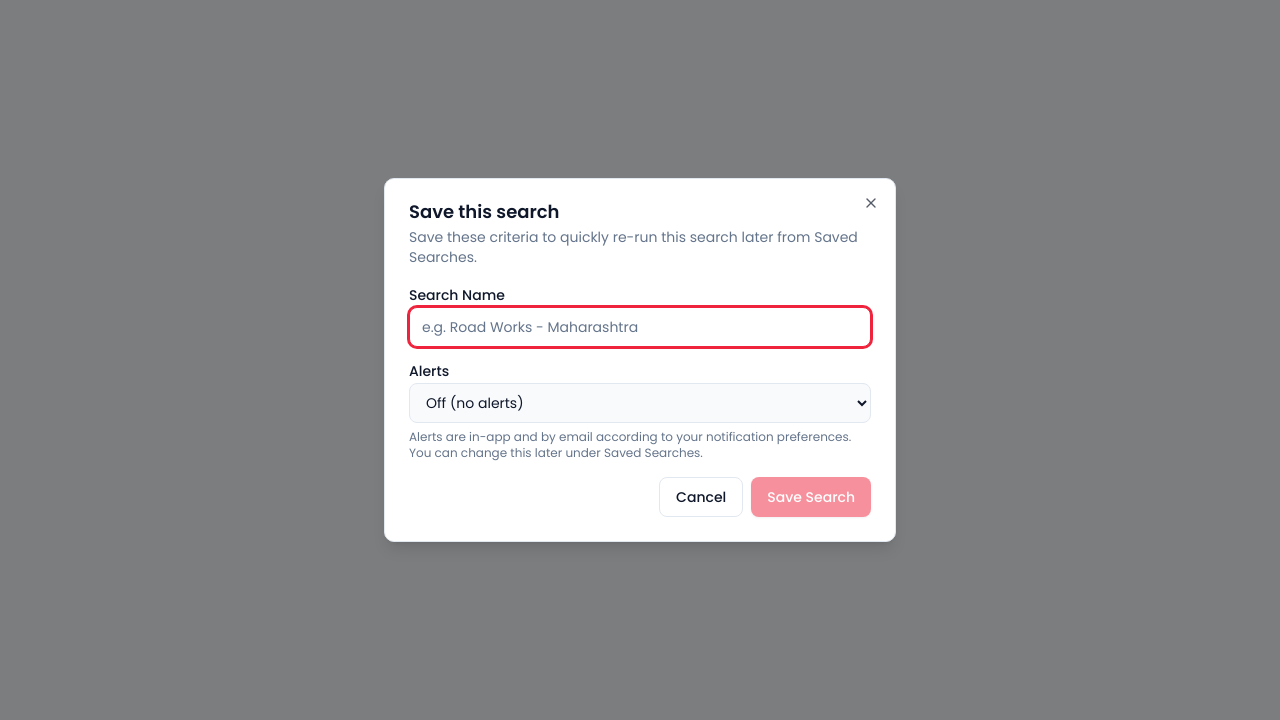
Test: SaveSearchModal › shows an error and stays open when the API fails
In the field labelled "Search Name": (640, 327) [409,307,871,347], type "X"
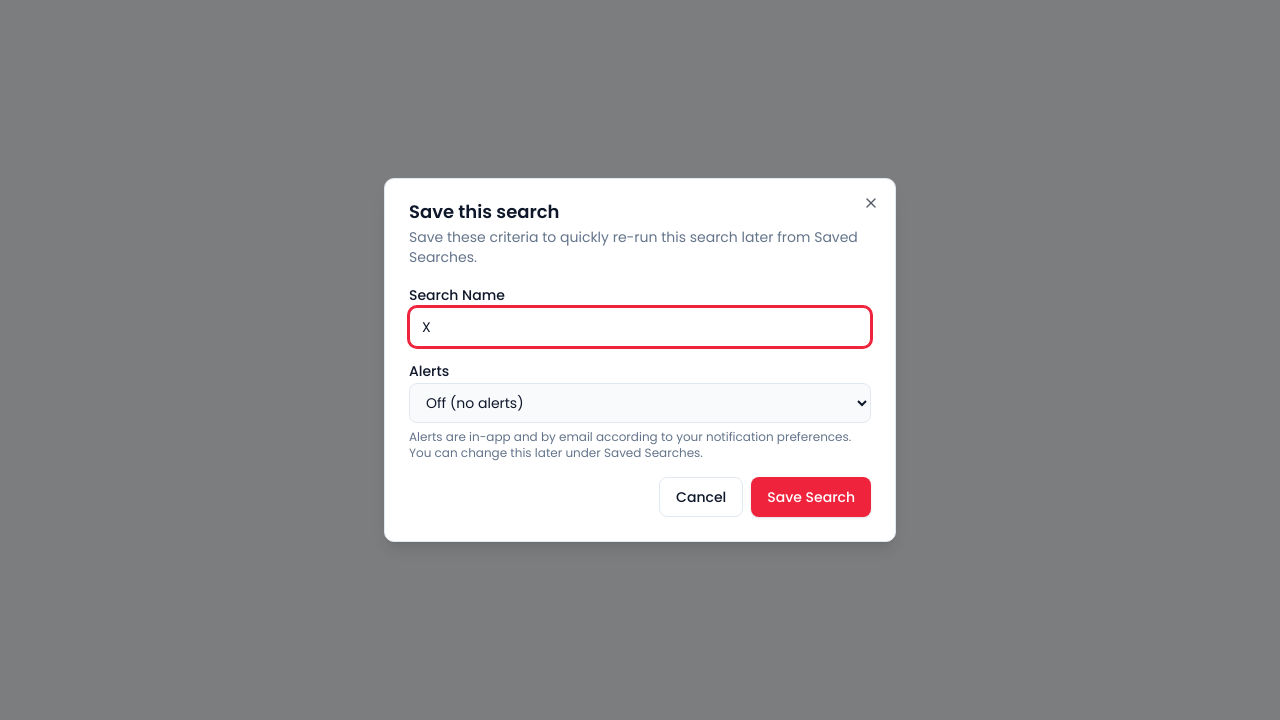
Click the button "Save Search": (811, 497) [751,477,871,517]
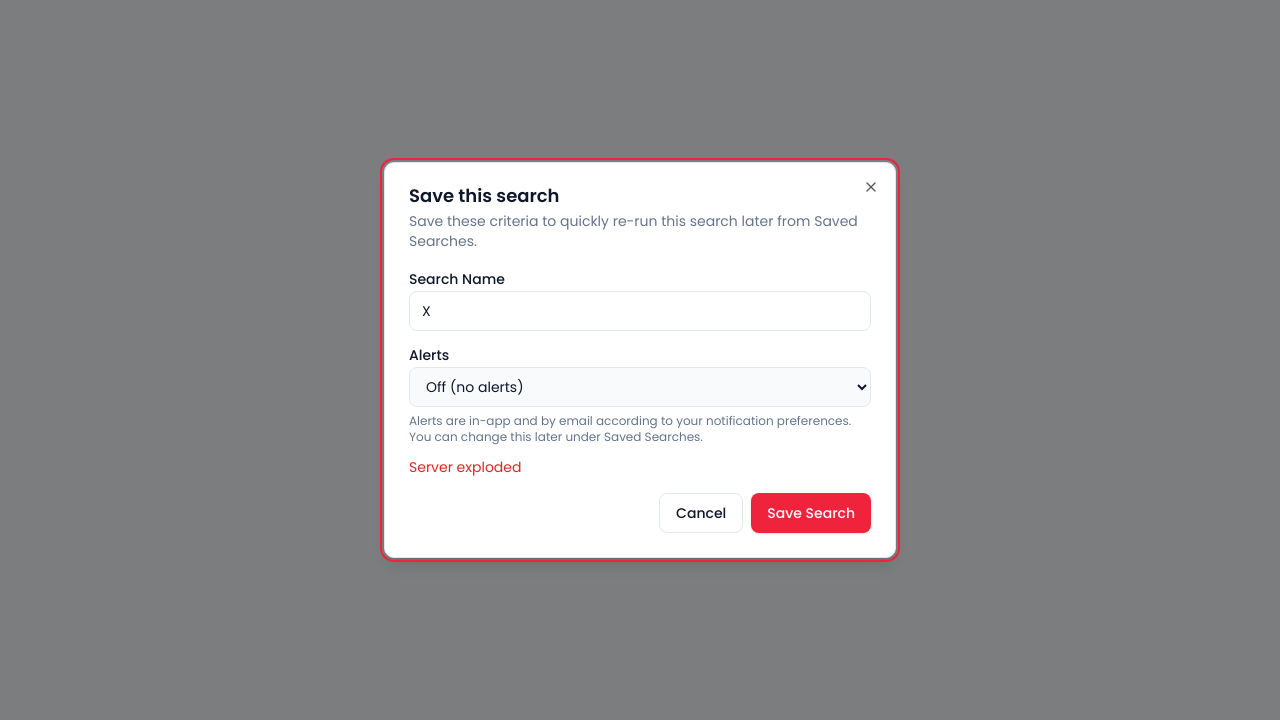
Result: the text "Server exploded" is shown at [409,457,522,477]
